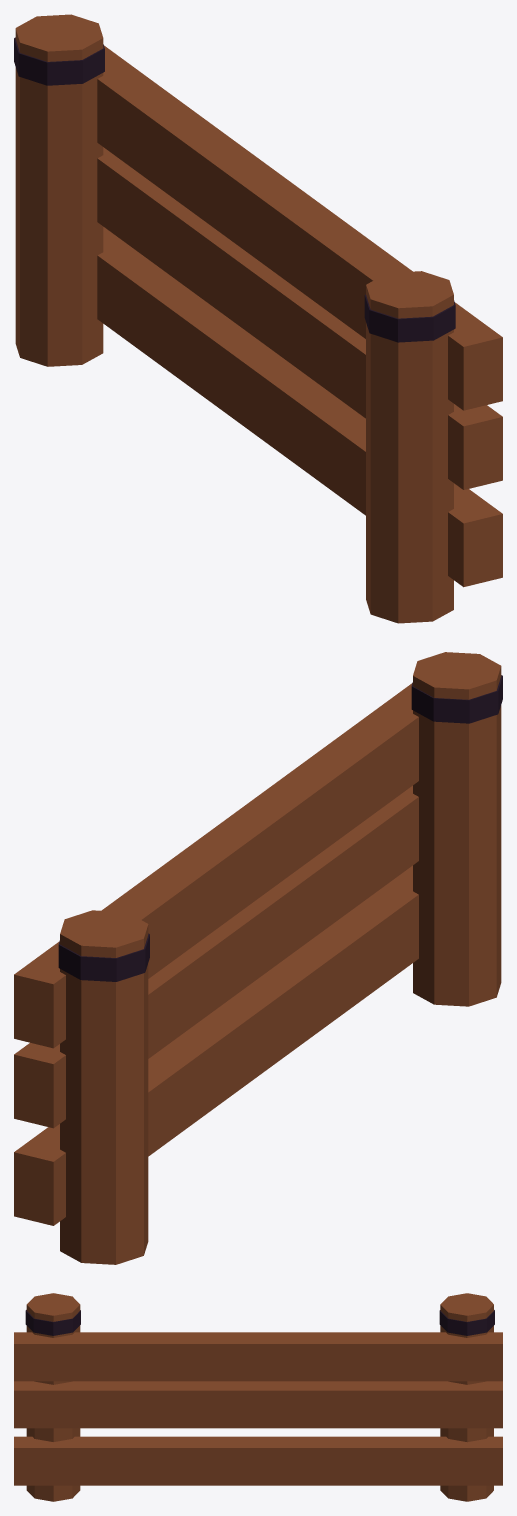
File: Fence1.fbx
3 views of the same model, one above another, from view 1: azimuth 30°, elevation 25°; view 2: azimuth 150°, elevation 25°; view 3: azimuth 270°, elevation 25° (orthographic). The views are drawn at different scales.
Parts seen in each view (by area): view 1: Cube.005; view 2: Cube.005; view 3: Cube.005.
Part boxes in pixels (x1,y1,x2,y2): Cube.005: [14, 14, 502, 623]; Cube.005: [14, 652, 502, 1264]; Cube.005: [14, 1293, 502, 1501].
Size of the model in its own units: 155 by 466 by 1111.
